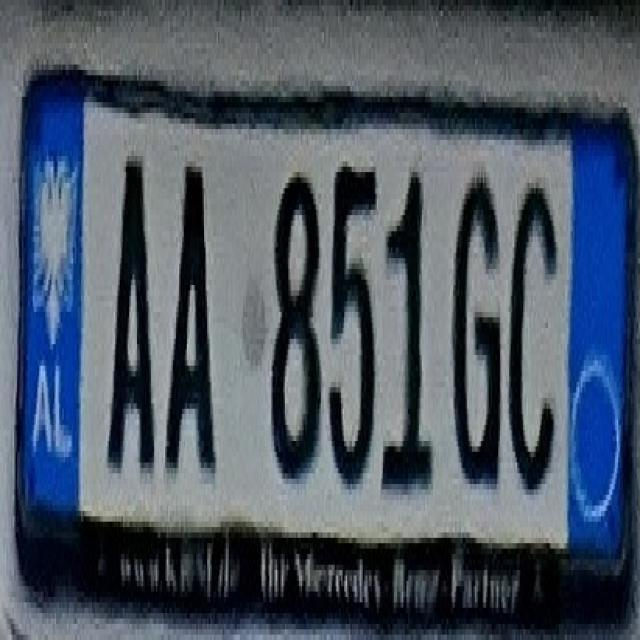1: (370, 145, 438, 495)
5: (316, 140, 382, 484)
8: (263, 150, 321, 484)
A: (92, 134, 166, 478), (156, 134, 222, 478)
C: (503, 161, 559, 495)
G: (444, 156, 500, 495)
